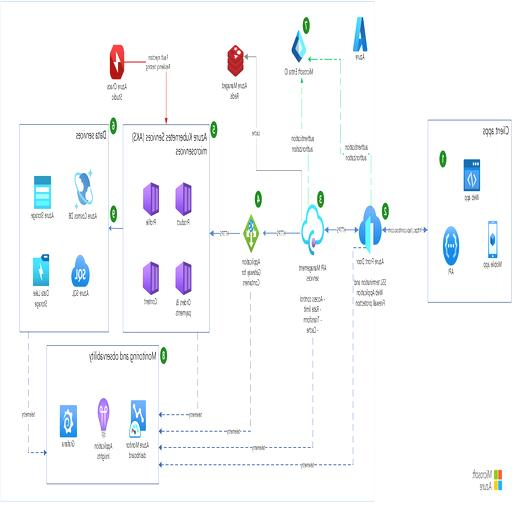actor: (428, 120, 512, 302)
api_gateway: (298, 206, 329, 250), (356, 205, 384, 246), (240, 212, 263, 250)
compute: (123, 123, 211, 333)
data_flow: (159, 446, 354, 450), (160, 446, 314, 450), (27, 332, 30, 452), (312, 330, 315, 448), (384, 224, 425, 232), (300, 63, 304, 137), (255, 76, 258, 170), (160, 430, 252, 433), (340, 60, 342, 196), (370, 60, 372, 196), (250, 316, 253, 406), (196, 351, 200, 402), (256, 168, 302, 172), (327, 225, 355, 231), (270, 228, 298, 234), (212, 228, 240, 234), (160, 414, 198, 417), (108, 224, 122, 232), (166, 71, 168, 122), (310, 58, 350, 60), (29, 450, 48, 453), (512, 1, 512, 1)
database_storage: (20, 123, 108, 333), (225, 44, 248, 77)
network_security: (46, 344, 160, 482), (106, 42, 130, 80), (288, 28, 311, 62)
trust_boundary: (0, 0, 376, 502)
